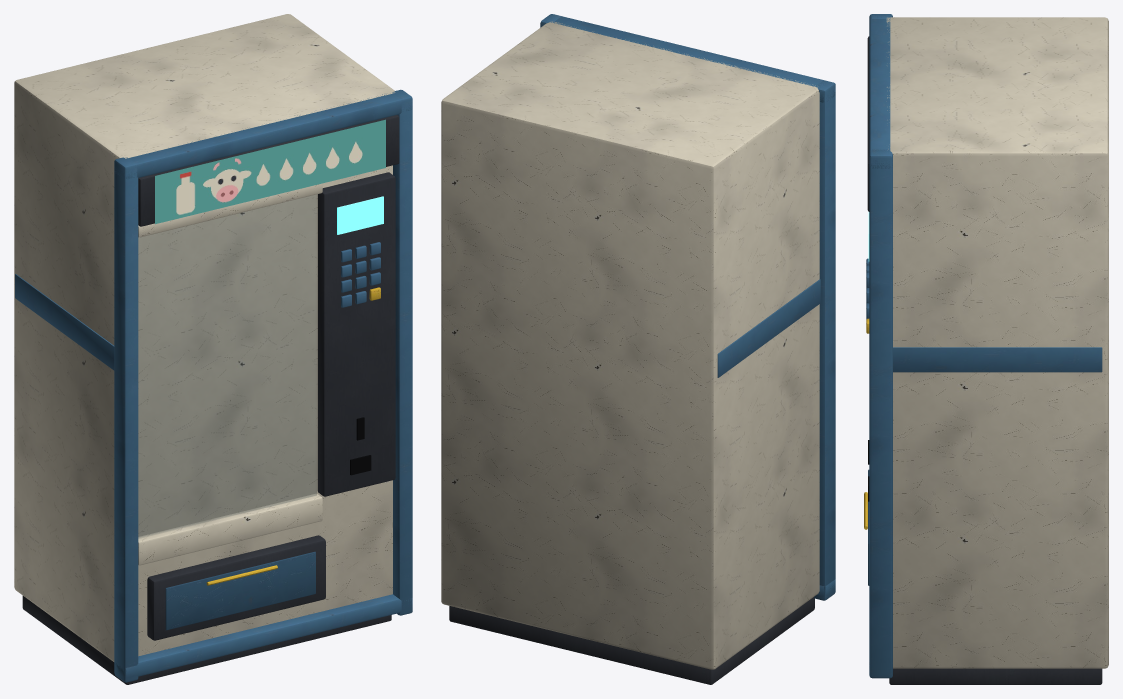
File: vending_machine.glb
3 views of the same model, side by side, from view 1: azimuth 30°, elevation 25°; view 2: azimuth 150°, elevation 25°; view 3: azimuth 270°, elevation 25° (orthographic). The views are drawn at different scales.
Parts seen in each view (by area): view 1: VendingMachineBody; view 2: VendingMachineBody; view 3: VendingMachineBody.
Boxes of the visible parts, x1,y1,x2,y2 form: VendingMachineBody: (14,14,412,684); VendingMachineBody: (441,14,835,684); VendingMachineBody: (864,14,1108,684).
Size of the model in its own units: 1 by 1.75 by 0.725.
Materials: 12 (8 with a texture image).
